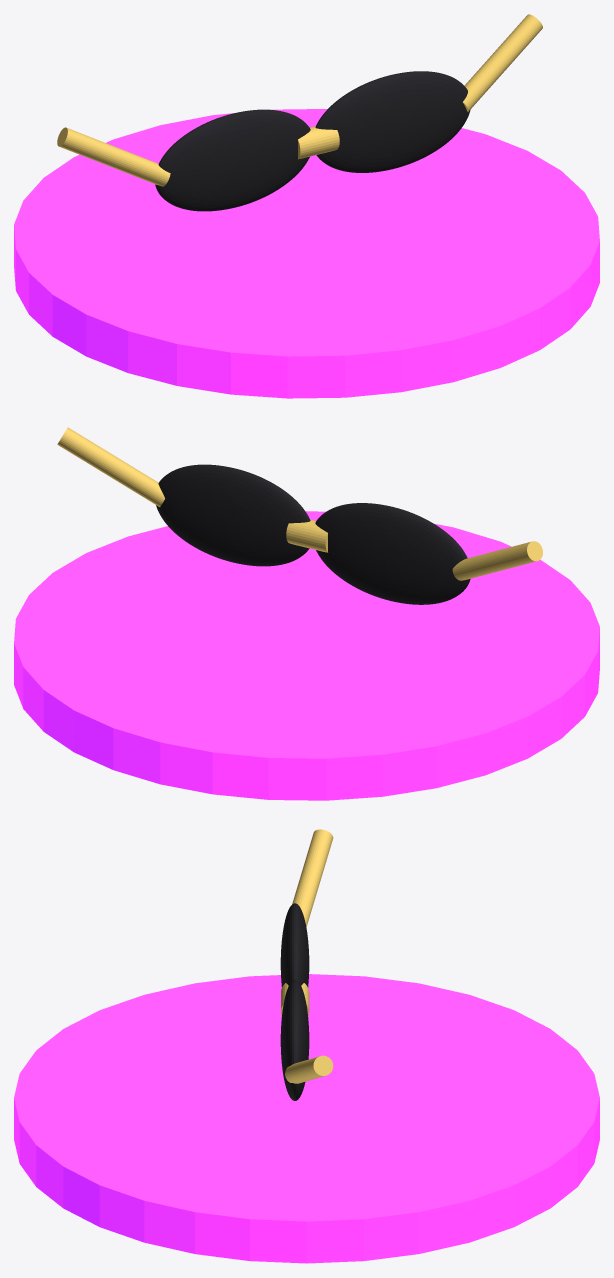
Rendered from modelling_sunglasses.glb.
3 views of the same model, one above another, from view 1: azimuth 30°, elevation 25°; view 2: azimuth 150°, elevation 25°; view 3: azimuth 270°, elevation 25° (orthographic).
Parts seen in each view (by area): view 1: 05_16_Popular_Modelling_Sunglasses_ROOT_base, 05_16_Popular_Modelling_Sunglasses_part_01, 05_16_Popular_Modelling_Sunglasses_part_02, 05_16_Popular_Modelling_Sunglasses_part_04, 05_16_Popular_Modelling_Sunglasses_part_05, 05_16_Popular_Modelling_Sunglasses_part_03; view 2: 05_16_Popular_Modelling_Sunglasses_ROOT_base, 05_16_Popular_Modelling_Sunglasses_part_01, 05_16_Popular_Modelling_Sunglasses_part_02, 05_16_Popular_Modelling_Sunglasses_part_05, 05_16_Popular_Modelling_Sunglasses_part_04, 05_16_Popular_Modelling_Sunglasses_part_03; view 3: 05_16_Popular_Modelling_Sunglasses_ROOT_base, 05_16_Popular_Modelling_Sunglasses_part_02, 05_16_Popular_Modelling_Sunglasses_part_01, 05_16_Popular_Modelling_Sunglasses_part_04, 05_16_Popular_Modelling_Sunglasses_part_05.
Part boxes in pixels (x1,y1,x2,y2): 05_16_Popular_Modelling_Sunglasses_ROOT_base: [14, 109, 599, 398]; 05_16_Popular_Modelling_Sunglasses_part_01: [155, 109, 310, 211]; 05_16_Popular_Modelling_Sunglasses_part_02: [315, 71, 470, 172]; 05_16_Popular_Modelling_Sunglasses_part_04: [57, 127, 170, 186]; 05_16_Popular_Modelling_Sunglasses_part_05: [463, 14, 542, 111]; 05_16_Popular_Modelling_Sunglasses_part_03: [298, 126, 339, 159]; 05_16_Popular_Modelling_Sunglasses_ROOT_base: [14, 511, 599, 800]; 05_16_Popular_Modelling_Sunglasses_part_01: [315, 503, 470, 604]; 05_16_Popular_Modelling_Sunglasses_part_02: [156, 464, 310, 566]; 05_16_Popular_Modelling_Sunglasses_part_05: [57, 427, 164, 506]; 05_16_Popular_Modelling_Sunglasses_part_04: [452, 541, 542, 580]; 05_16_Popular_Modelling_Sunglasses_part_03: [286, 519, 327, 552]; 05_16_Popular_Modelling_Sunglasses_ROOT_base: [14, 974, 599, 1263]; 05_16_Popular_Modelling_Sunglasses_part_02: [280, 980, 309, 1100]; 05_16_Popular_Modelling_Sunglasses_part_01: [280, 903, 309, 987]; 05_16_Popular_Modelling_Sunglasses_part_04: [292, 829, 333, 927]; 05_16_Popular_Modelling_Sunglasses_part_05: [285, 1055, 333, 1083].
Bounding box in the file's own units: 0.76 × 0.282 × 0.76.
